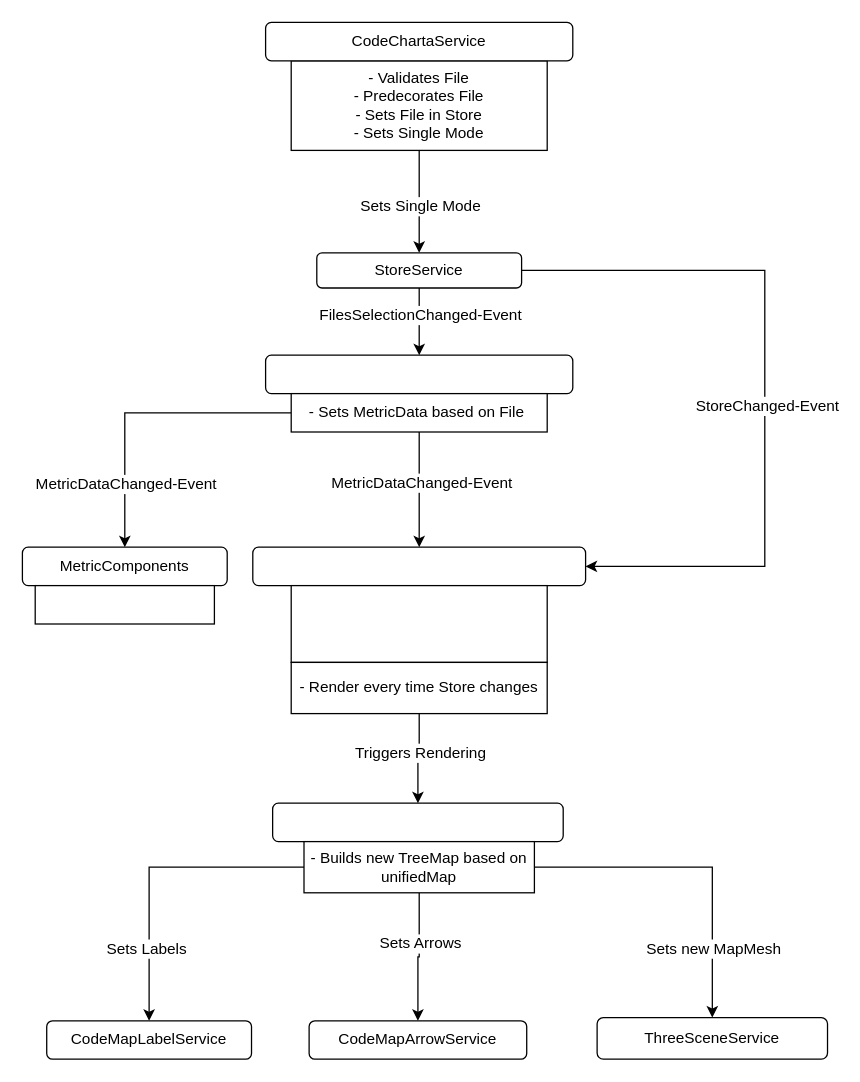
The diagram is 860 pixels wide and 1082 high, and some of its shapes have lost their labels. Each missing label, with the centre of its shape:
- Sets unifiedMap - Decorates Map - First Rendering: the point at 418,623
- Update MetricChoosers: the point at 124,604
CodeMapPreRenderService: the point at 419,566
CodeMapRenderService: the point at 417,822
MetricService / EdgeMetricDataService: the point at 418,374
